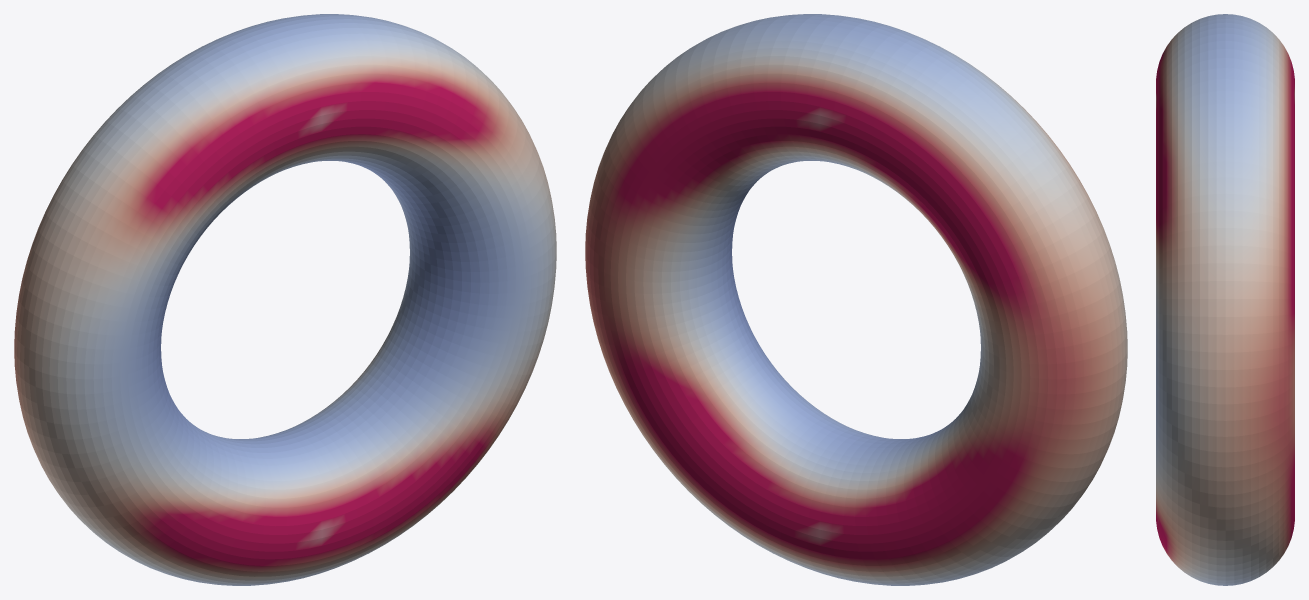
3 views of the same model, side by side, from view 1: azimuth 30°, elevation 25°; view 2: azimuth 150°, elevation 25°; view 3: azimuth 270°, elevation 25° (orthographic). The views are drawn at different scales.
Parts seen in each view (by area): view 1: world; view 2: world; view 3: world.
Part boxes in pixels (box(x1,y1,x2,y2)): world: box(14, 14, 556, 585); world: box(585, 14, 1127, 585); world: box(1156, 14, 1294, 585).
Bounding box in the file's own units: 24.67 × 24.67 × 5.99.
